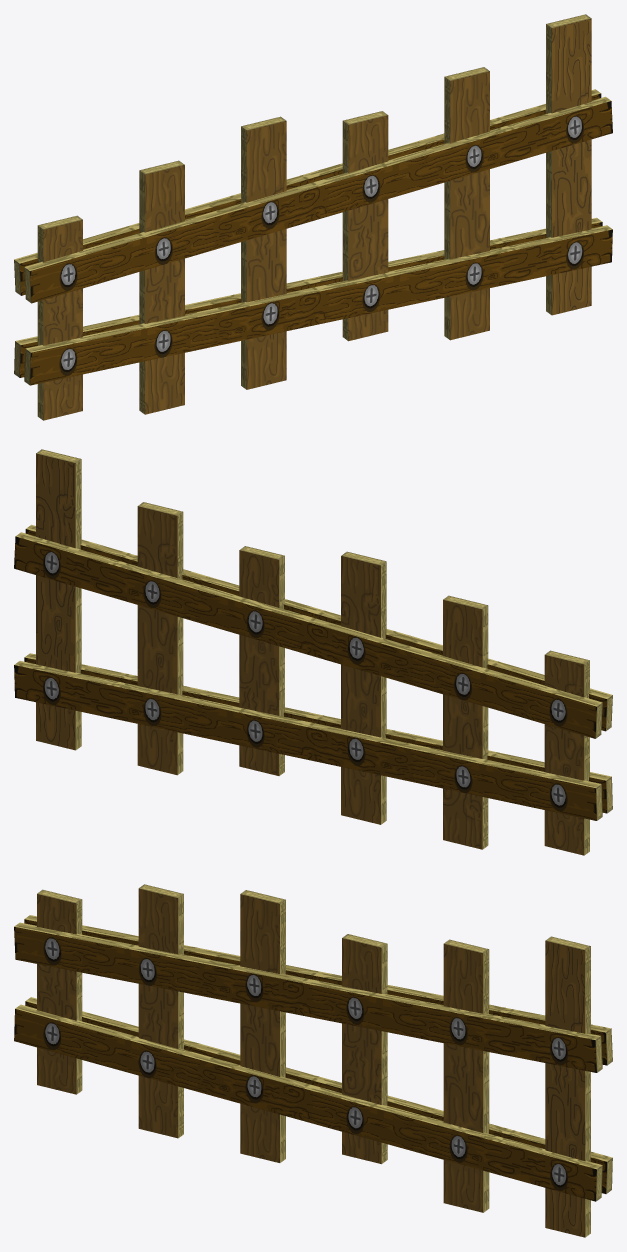
File: Cerca.fbx
3 renders of one model, top to bottom at view 1: azimuth 30°, elevation 25°; view 2: azimuth 150°, elevation 25°; view 3: azimuth 330°, elevation 25°, orthographic.
Visible parts, largest first — view 1: Cube; view 2: Cube; view 3: Cube.
Part boxes in pixels (x1,y1,x2,y2): Cube: (14, 14, 612, 420); Cube: (14, 449, 612, 855); Cube: (14, 884, 612, 1237).
Size of the model in its own units: 737 by 347 by 35.14.
Materials: 1 (1 with a texture image).
